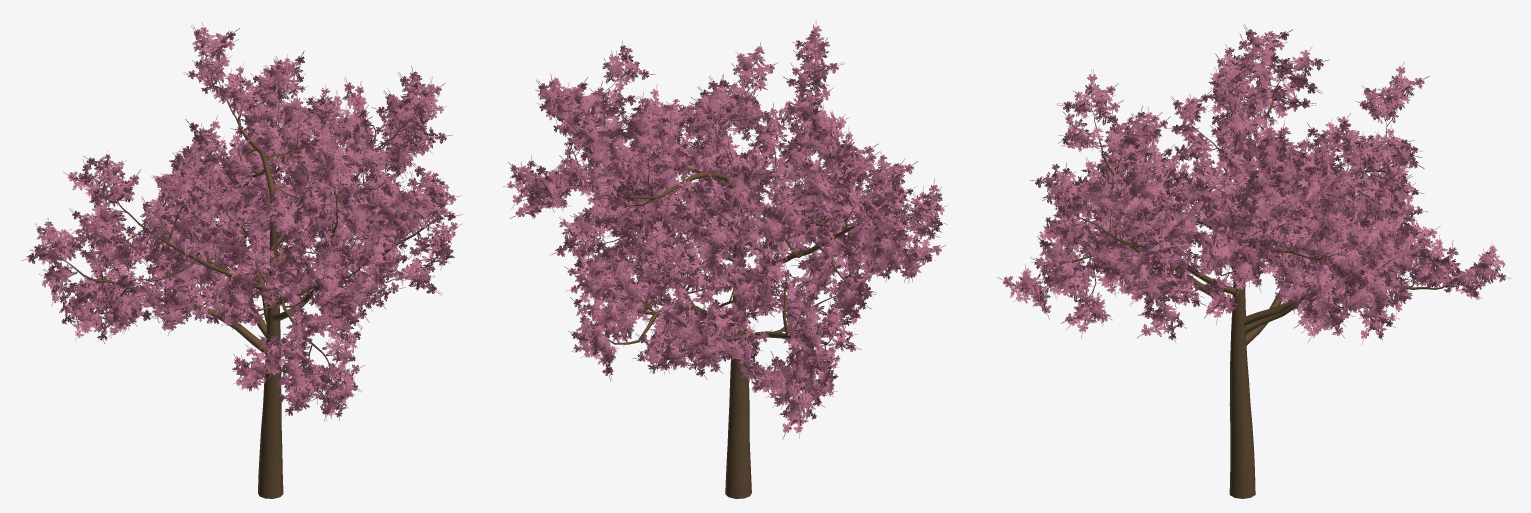
The model's file is blossom-v2.glb.
3 views of the same model, side by side, from view 1: azimuth 30°, elevation 25°; view 2: azimuth 150°, elevation 25°; view 3: azimuth 270°, elevation 25° (orthographic). The views are drawn at different scales.
Parts seen in each view (by area): view 1: leaves, branches; view 2: leaves, branches; view 3: leaves, branches.
Boxes of the visible parts, x1=… form: leaves: x1=22, y1=22, x2=462, y2=420; branches: x1=48, y1=57, x2=444, y2=498; leaves: x1=503, y1=20, x2=947, y2=439; branches: x1=527, y1=51, x2=925, y2=498; leaves: x1=997, y1=24, x2=1510, y2=345; branches: x1=1030, y1=44, x2=1491, y2=498.
Bounding box in the file's own units: 5.76 × 5.8 × 6.31.
2 materials, 2 textured.
